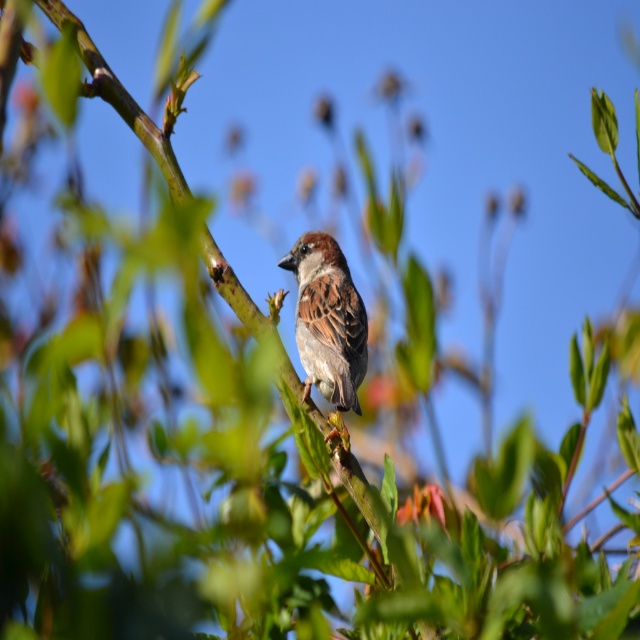Sparrow: (276, 226, 372, 414)
